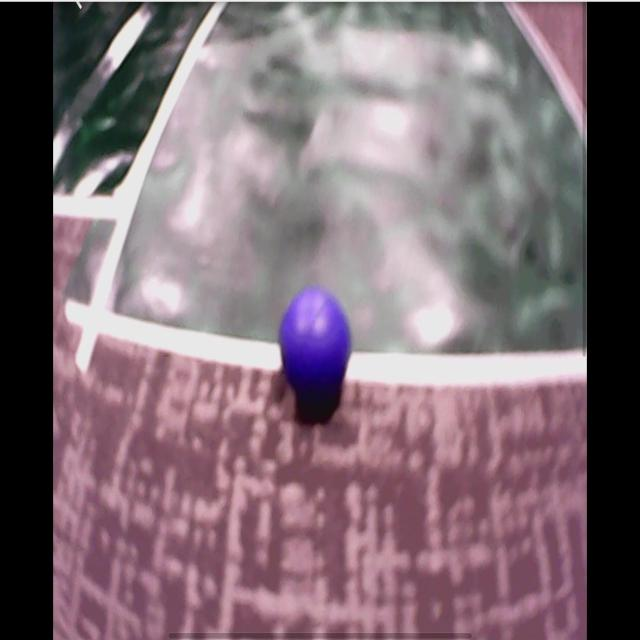ball: (281, 285, 352, 389)
